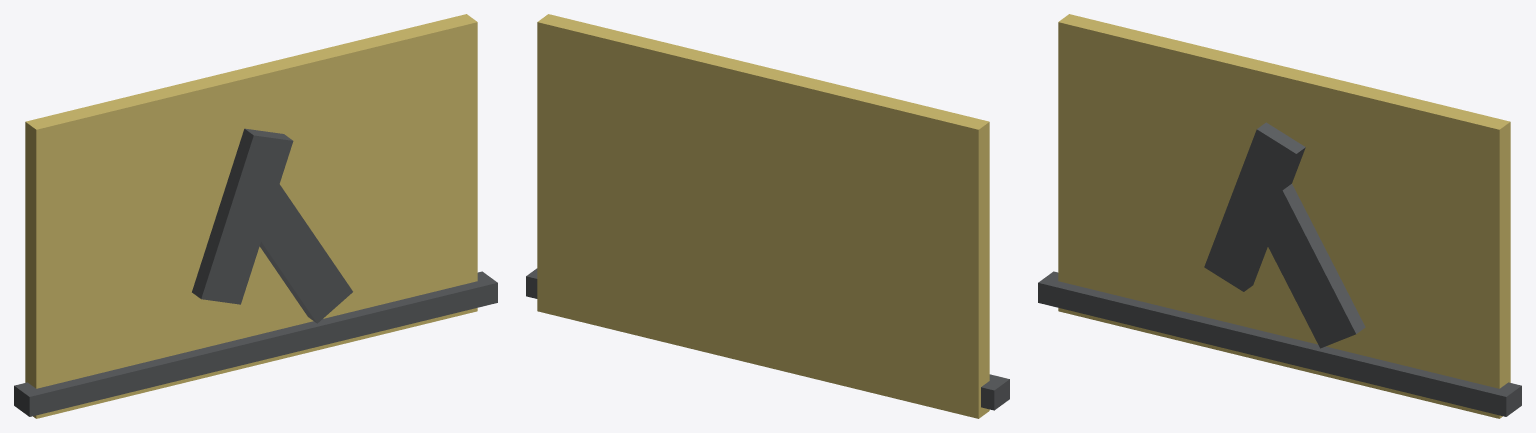
Rendered from warning_sign_lod1.glb.
3 renders of one model, left to right at view 1: azimuth 30°, elevation 25°; view 2: azimuth 150°, elevation 25°; view 3: azimuth 330°, elevation 25°, orthographic.
Parts seen in each view (by area): view 1: part_0, part_3, part_1, part_2; view 2: part_0, part_3; view 3: part_0, part_3, part_1, part_2.
Boxes of the visible parts, x1,y1,x2,y2 form: part_0: (25,14,477,418); part_3: (14,271,497,416); part_1: (192,128,293,304); part_2: (249,180,352,323); part_0: (537,14,989,418); part_3: (526,268,1009,410); part_0: (1058,14,1510,418); part_3: (1038,271,1521,416); part_1: (1204,122,1305,291); part_2: (1264,184,1365,348).
Size of the model in its own units: 1.22 by 0.72 by 0.0925.
